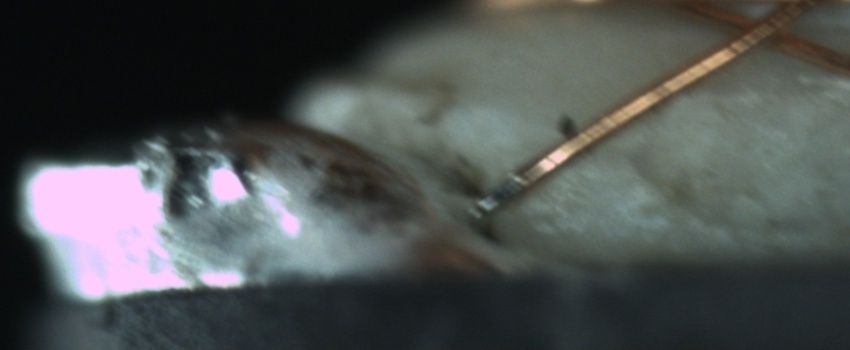CL: (715, 3, 808, 61)
TS: (474, 176, 518, 217)
